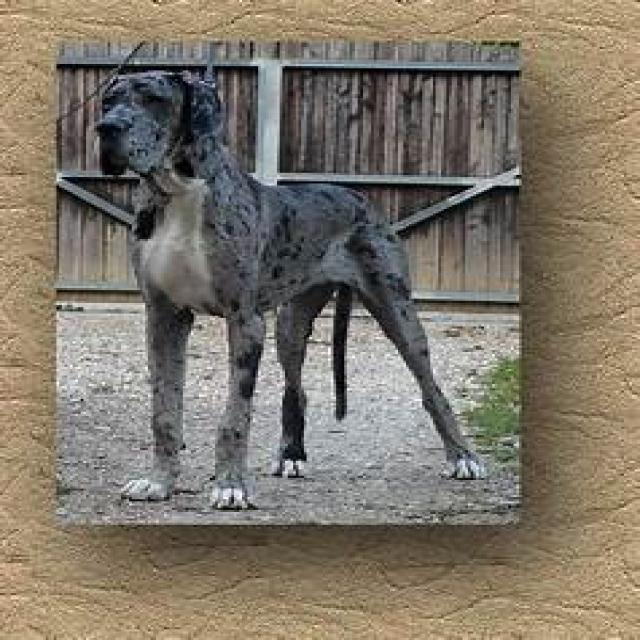dog: (97, 70, 487, 508)
